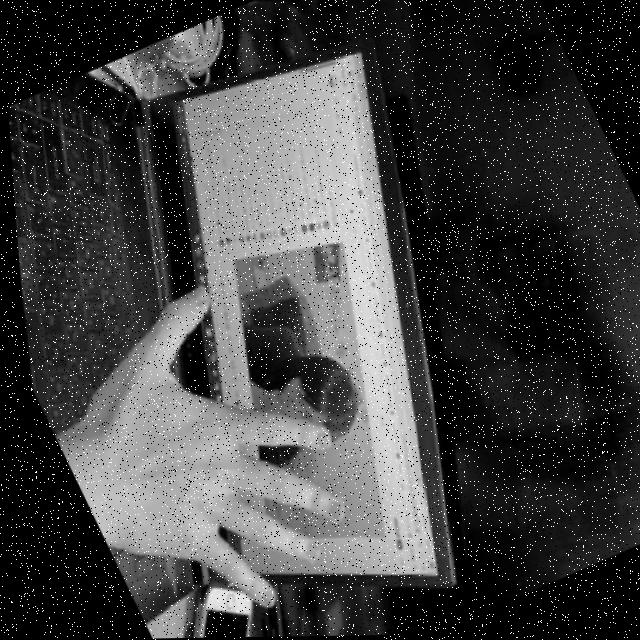hand: (15, 250, 392, 640)
